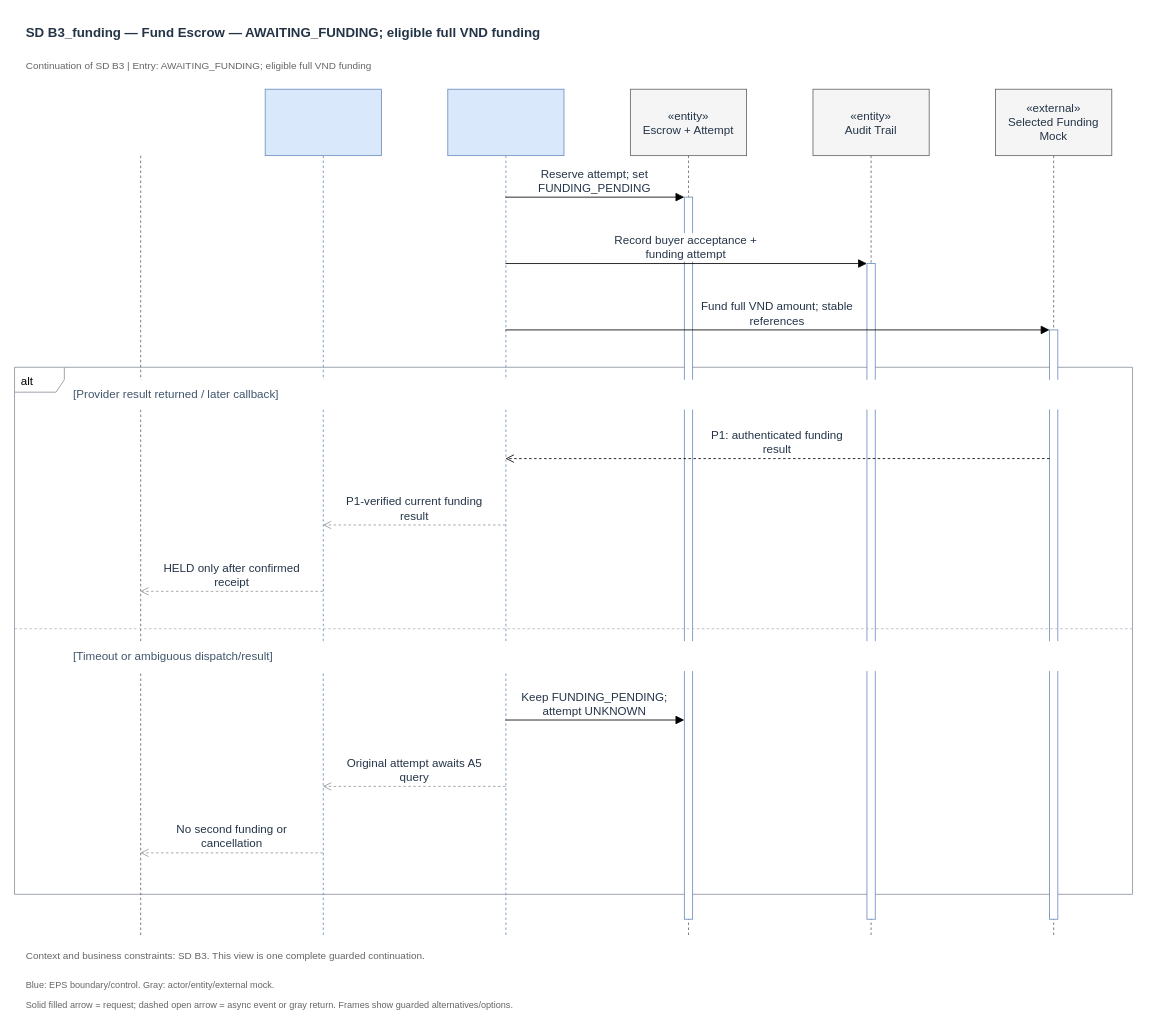
The diagram is 1151 pixels wide and 1032 high, and some of its shapes have lost their labels. The box of each missing label's shape, as (x1, y1, x2, y2) in pixels:
Buyer: (82, 88, 199, 936)
«boundary» Escrow UI: (264, 88, 381, 936)
«control» Escrow Control: (447, 88, 564, 936)
